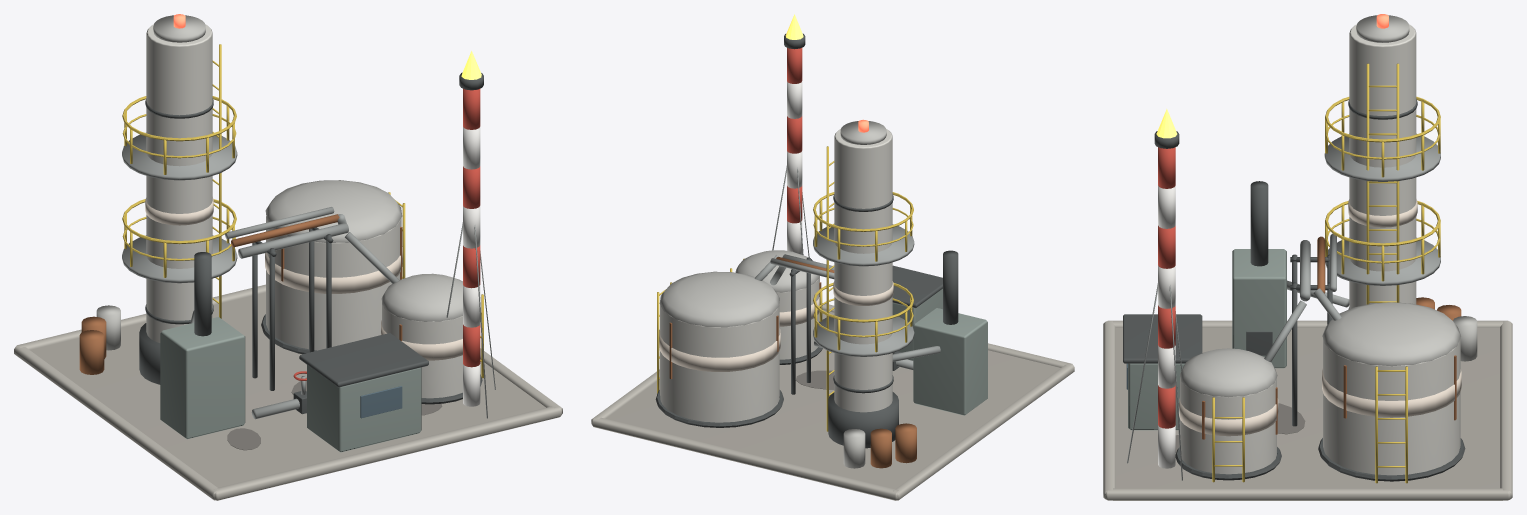
The model's file is OilRefinery.glb.
3 views of the same model, side by side, from view 1: azimuth 30°, elevation 25°; view 2: azimuth 150°, elevation 25°; view 3: azimuth 270°, elevation 25° (orthographic). The views are drawn at different scales.
Visible parts, largest first — view 1: Refinery pad, Distillation column, East storage tank shell, Fired heater, Control shed, East storage tank roof, Pad kerb.001, Shed roof, South storage tank shell, South storage tank roof, Pad kerb.003, Column platform.001 (+31 smaller); view 2: Refinery pad, Distillation column, East storage tank shell, Fired heater, East storage tank roof, Pad kerb, Pad kerb.003, Column skirt, Column platform, Column platform.001, East storage tank ownership band, South storage tank shell (+23 smaller); view 3: Refinery pad, Distillation column, East storage tank shell, East storage tank roof, South storage tank shell, Pad kerb.002, Fired heater, South storage tank roof, Shed roof, Column platform.001, East storage tank ownership band, Control shed (+30 smaller).
Boxes of the visible parts, box(x1,y1,x2,y2) form: Refinery pad: box(30, 292, 545, 487); Distillation column: box(146, 24, 212, 342); East storage tank shell: box(266, 216, 401, 350); Fired heater: box(160, 317, 245, 439); Control shed: box(307, 365, 421, 452); East storage tank roof: box(265, 180, 402, 242); Pad kerb.001: box(214, 406, 562, 500); Shed roof: box(299, 333, 428, 387); South storage tank shell: box(382, 303, 462, 398); South storage tank roof: box(381, 273, 462, 321); Pad kerb.003: box(14, 346, 219, 500); Column platform.001: box(122, 134, 237, 180); Refinery pad: box(606, 310, 1060, 489); Distillation column: box(834, 129, 892, 412); East storage tank shell: box(660, 304, 779, 422); Fired heater: box(913, 308, 987, 415); East storage tank roof: box(659, 271, 779, 327); Pad kerb: box(592, 417, 898, 500); Pad kerb.003: box(893, 363, 1074, 500); Column skirt: box(828, 392, 898, 448); Column platform: box(813, 315, 914, 356); Column platform.001: box(813, 224, 914, 266); East storage tank ownership band: box(659, 328, 780, 371); South storage tank shell: box(776, 276, 819, 359); Refinery pad: box(1113, 328, 1502, 500); Distillation column: box(1349, 24, 1416, 308); East storage tank shell: box(1323, 338, 1460, 475); East storage tank roof: box(1322, 302, 1460, 366); South storage tank shell: box(1180, 377, 1276, 474); Pad kerb.002: box(1105, 488, 1509, 500); Fired heater: box(1232, 249, 1286, 368); South storage tank roof: box(1179, 348, 1277, 397); Shed roof: box(1123, 314, 1202, 363); Column platform.001: box(1324, 133, 1440, 181); East storage tank ownership band: box(1322, 369, 1461, 417); Control shed: box(1128, 363, 1184, 430).
Size of the model in its own units: 4.64 by 4.59 by 4.64.
